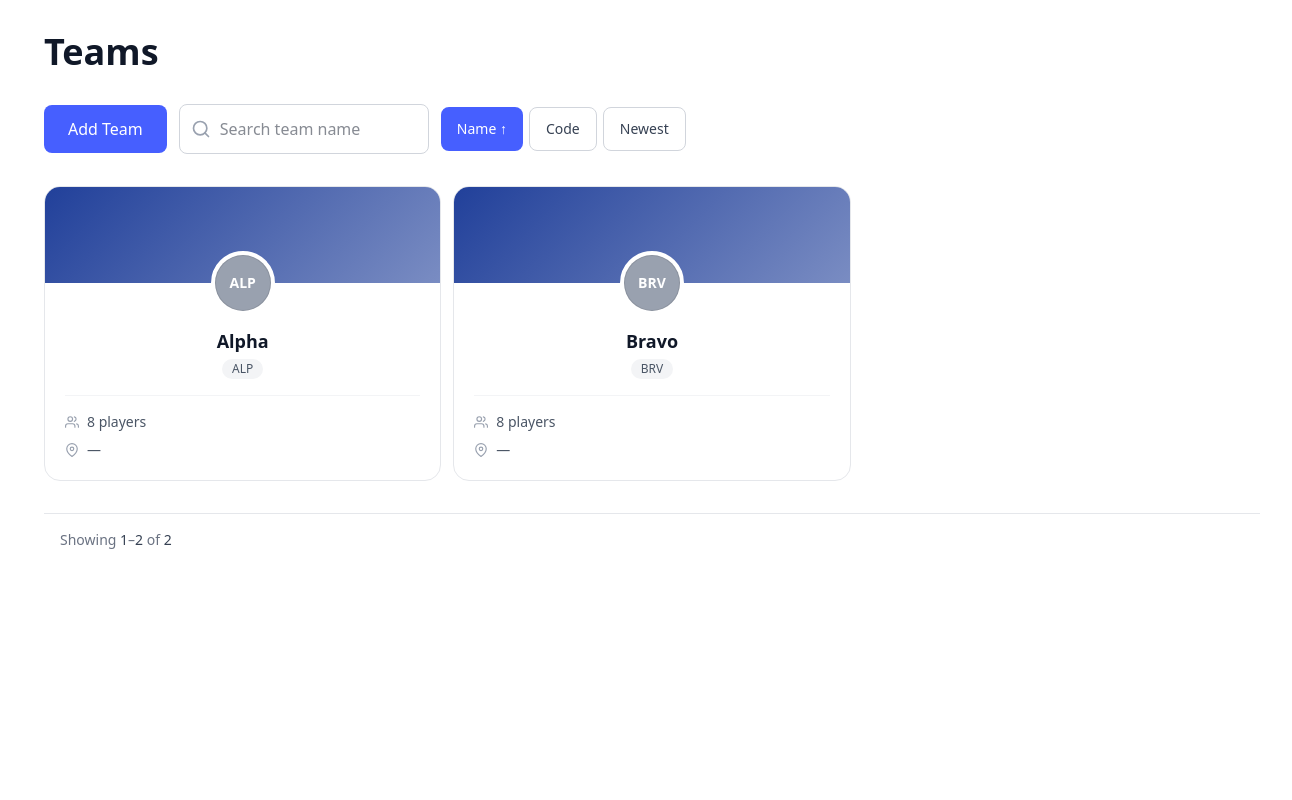
Teams: list › sends a typed search to the server and puts it in the URL
Type "alph" into the field named "Search teams by name" at (304, 129), box x1=179 y1=104 x2=429 y2=154
(page scrolled)
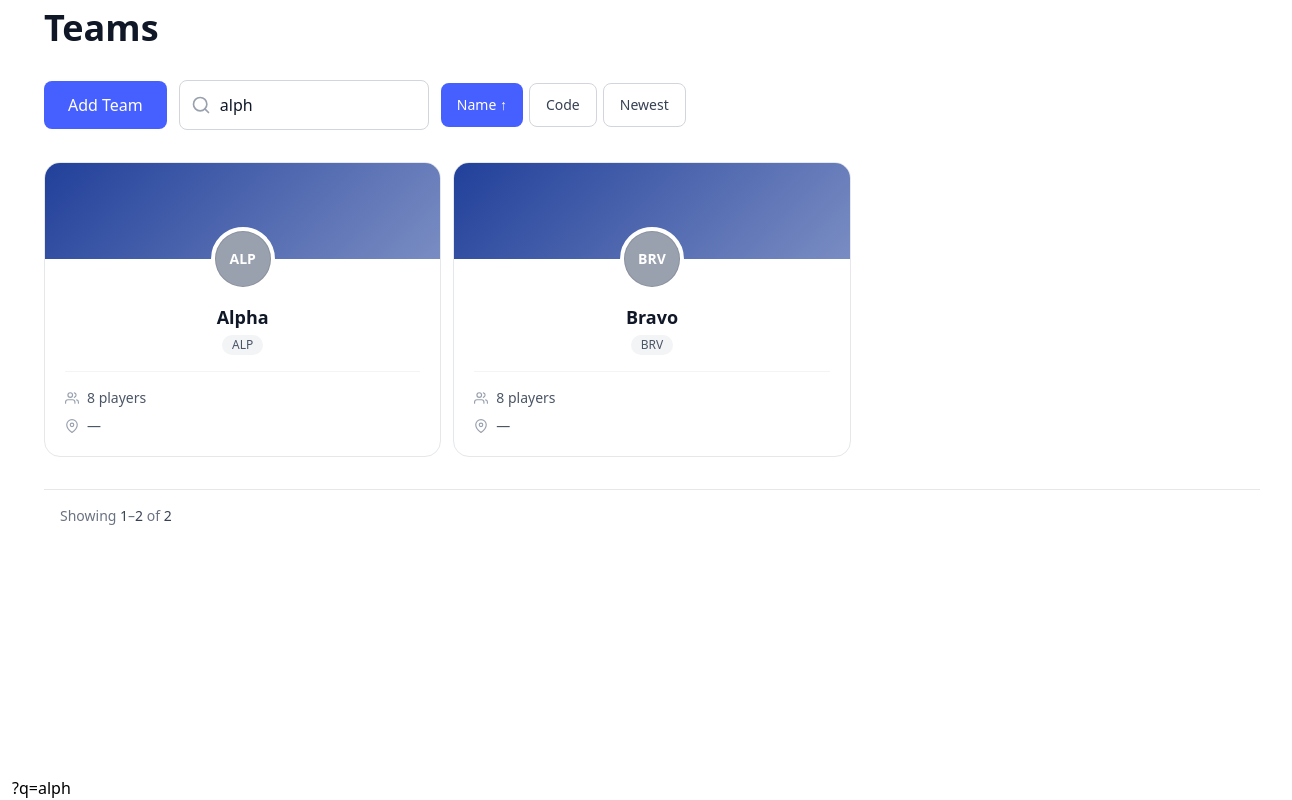
Expected: the text with test id "where" shows "q=alph", x1=12 y1=777 x2=71 y2=799
